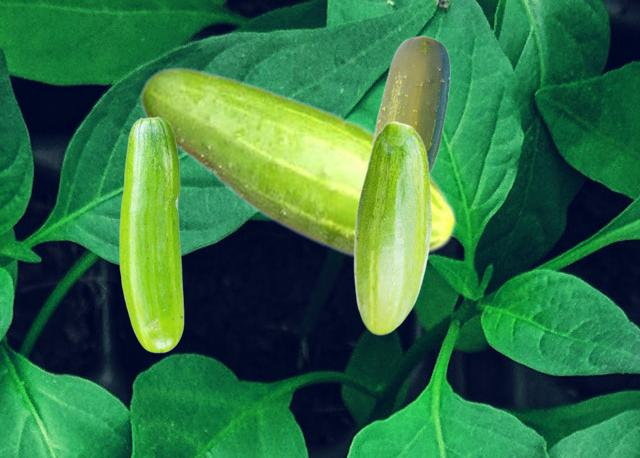cucumber: (139, 66, 457, 260), (353, 121, 431, 334), (119, 116, 183, 352), (371, 35, 449, 172)
